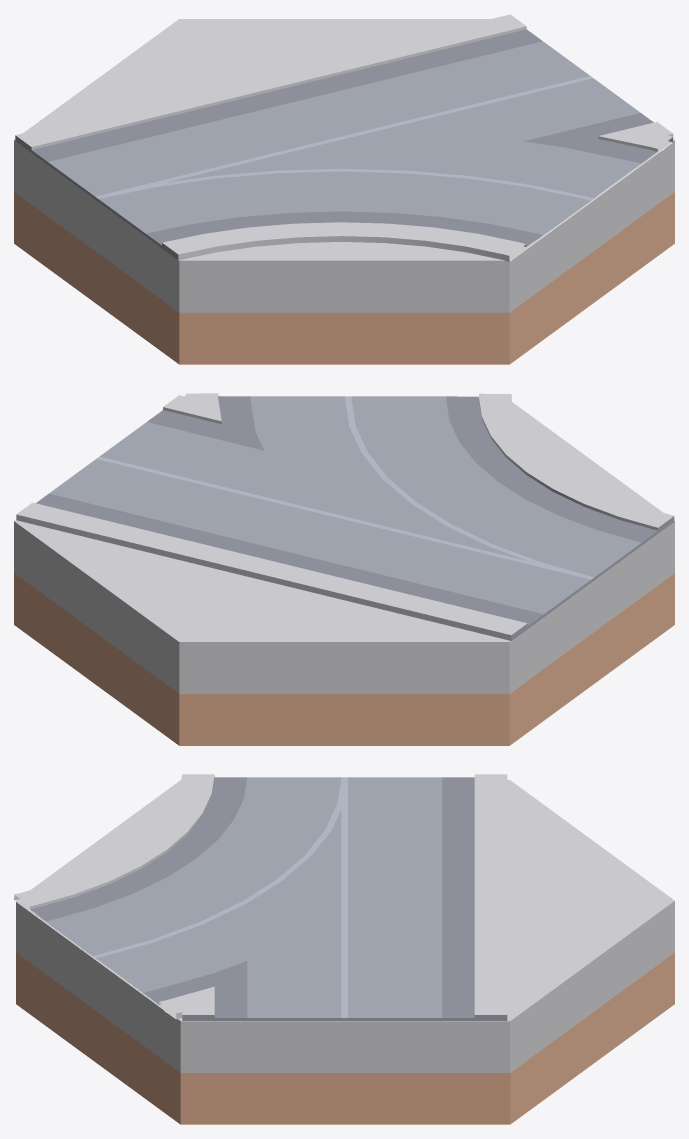
Rendered from curve_straight_road_high.fbx.
The picture shows the model from 3 angles, top to bottom: view 1: azimuth 30°, elevation 25°; view 2: azimuth 150°, elevation 25°; view 3: azimuth 270°, elevation 25°; orthographic projection.
Parts seen in each view (by area): view 1: road_curveIntersection.001, pavement_high.020; view 2: road_curveIntersection.001, pavement_high.020; view 3: road_curveIntersection.001, pavement_high.020.
Boxes of the visible parts, left/top/right/bottom form: road_curveIntersection.001: left=15, top=14, right=673, bottom=261; pavement_high.020: left=14, top=19, right=674, bottom=364; road_curveIntersection.001: left=16, top=393, right=674, bottom=640; pavement_high.020: left=14, top=402, right=674, bottom=745; road_curveIntersection.001: left=14, top=774, right=507, bottom=1020; pavement_high.020: left=16, top=780, right=674, bottom=1124.
Bounding box in the file's own units: 100 × 21.11 × 116.
